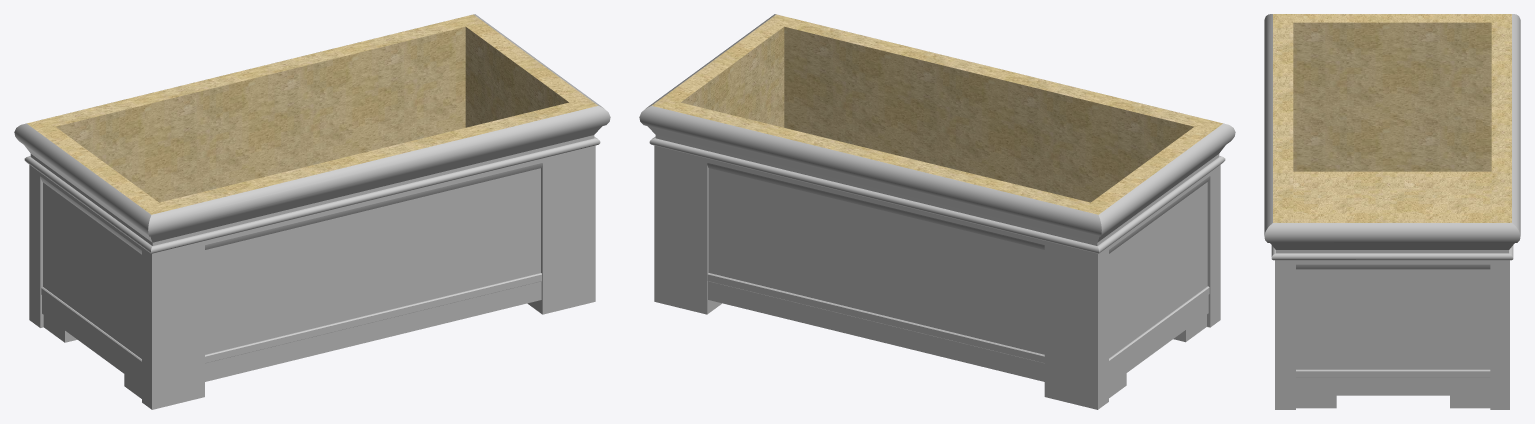
Rendered from cypriot sarcophagus base.dae.
3 renders of one model, left to right at view 1: azimuth 30°, elevation 25°; view 2: azimuth 150°, elevation 25°; view 3: azimuth 270°, elevation 25°, orthographic. The views are drawn at different scales.
Visible parts, largest first — view 1: SketchUp (×5); view 2: SketchUp (×5); view 3: SketchUp (×5).
Part boxes in pixels (<box>): SketchUp (×5): <box>14,14,610,409</box>; SketchUp (×5): <box>639,14,1235,409</box>; SketchUp (×5): <box>1264,14,1520,409</box>.
Size of the model in its own units: 107 by 53.62 by 43.41.
